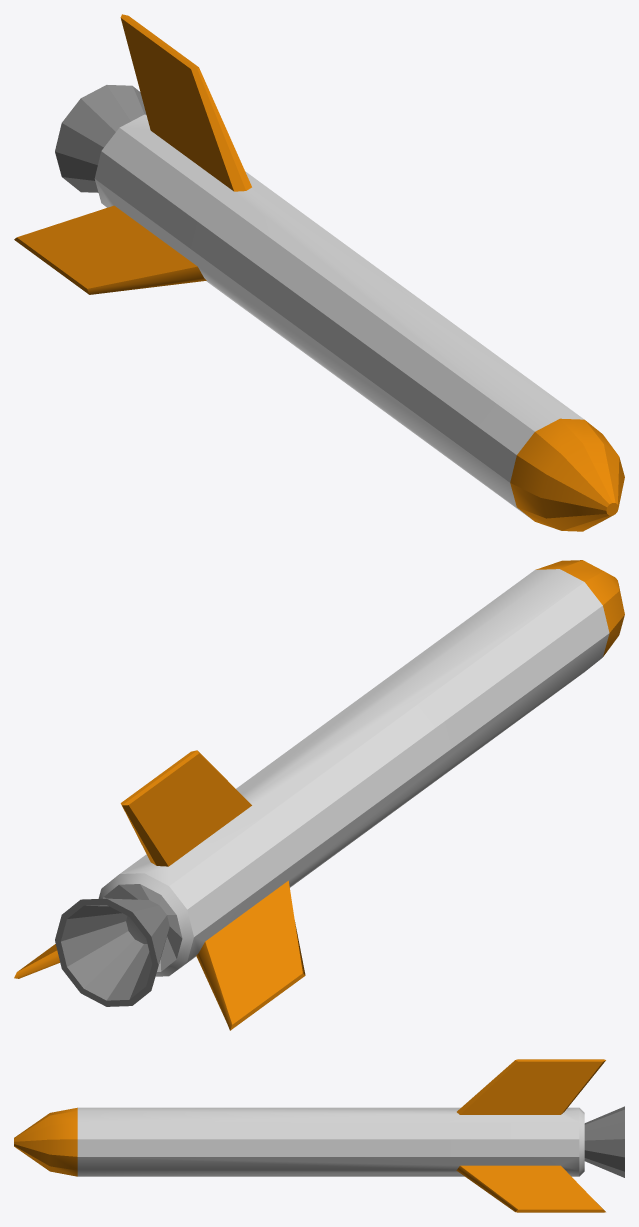
File: Rocket.fbx
The picture shows the model from 3 angles, top to bottom: view 1: azimuth 30°, elevation 25°; view 2: azimuth 150°, elevation 25°; view 3: azimuth 270°, elevation 25°; orthographic projection. The views are drawn at different scales.
Parts seen in each view (by area): view 1: rocket; view 2: rocket; view 3: rocket.
Part boxes in pixels (x1=…): rocket: x1=14, y1=14, x2=624, y2=531; rocket: x1=14, y1=560, x2=624, y2=1030; rocket: x1=14, y1=1059, x2=624, y2=1212.
Size of the model in its own units: 1.06 by 0.9424 by 4.3.
